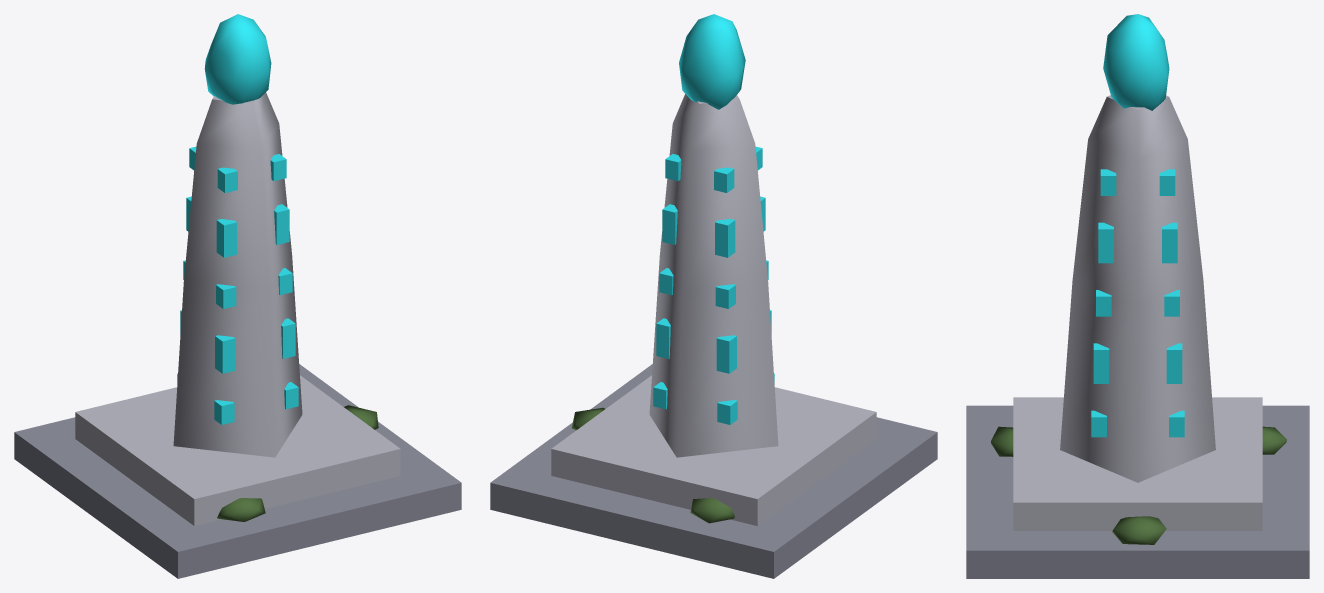
Rendered from waystone.glb.
3 views of the same model, side by side, from view 1: azimuth 30°, elevation 25°; view 2: azimuth 150°, elevation 25°; view 3: azimuth 270°, elevation 25° (orthographic). The views are drawn at different scales.
Parts seen in each view (by area): view 1: step_low; view 2: step_low; view 3: step_low.
Part boxes in pixels (bbox=[...]): step_low: bbox=[14, 14, 461, 578]; step_low: bbox=[490, 14, 937, 578]; step_low: bbox=[966, 14, 1309, 578].
Size of the model in its own units: 2.2 by 3.49 by 2.2.
